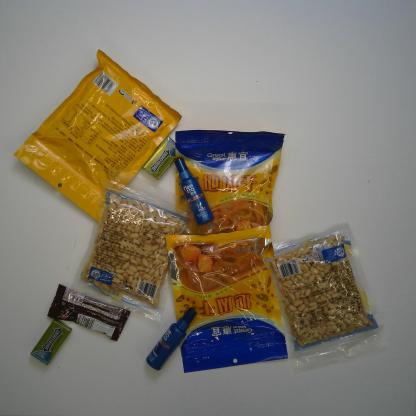Chocolate: (46, 284, 131, 341)
Dried Fruit: (13, 48, 181, 224), (71, 171, 198, 323), (165, 225, 290, 375), (270, 221, 387, 369), (174, 129, 287, 236)
Gum: (30, 318, 73, 366), (142, 135, 175, 180)
Personal Hygiene: (145, 306, 198, 371), (173, 157, 215, 227)
